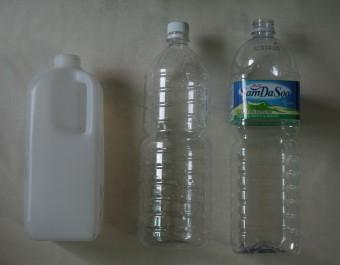bottle: (226, 16, 304, 251), (133, 18, 208, 247), (0, 54, 71, 241)
